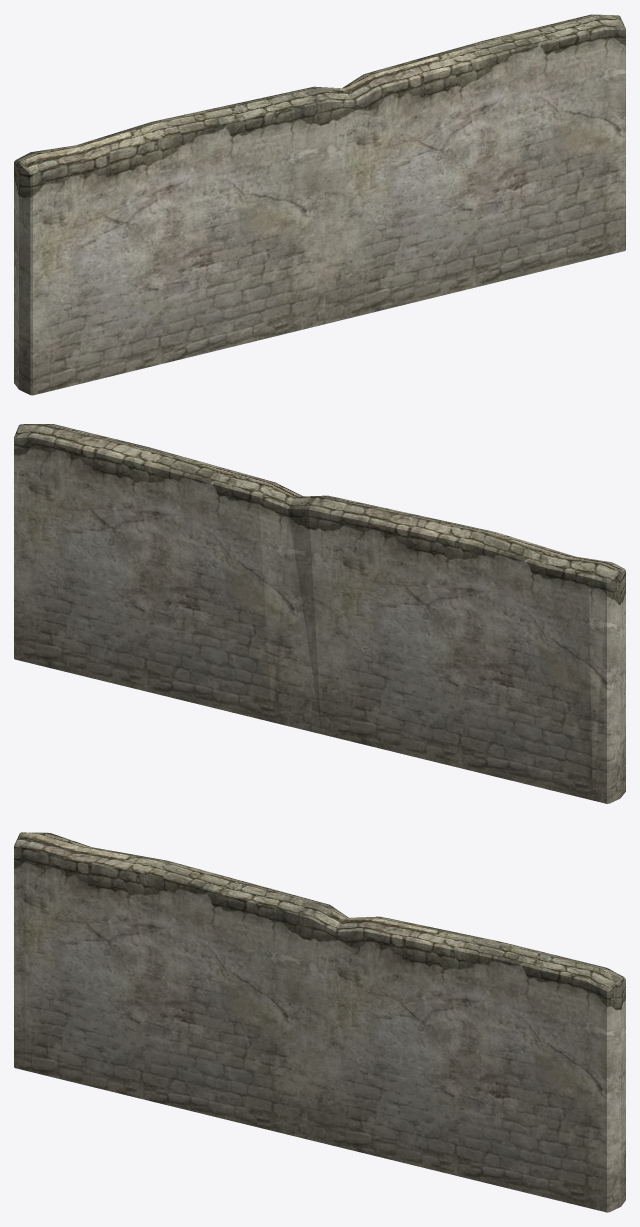
File: TW2_5_ADDON_03_7-transformed.glb
3 renders of one model, top to bottom at view 1: azimuth 30°, elevation 25°; view 2: azimuth 150°, elevation 25°; view 3: azimuth 330°, elevation 25°, orthographic.
Parts seen in each view (by area): view 1: default; view 2: default; view 3: default.
Part boxes in pixels (left/top/right/bottom): default: left=14, top=14, right=625, bottom=395; default: left=14, top=424, right=625, bottom=803; default: left=14, top=832, right=625, bottom=1212.
Bounding box in the file's own units: 8.08 × 3 × 0.4838.
Materials: 1 (1 with a texture image).
